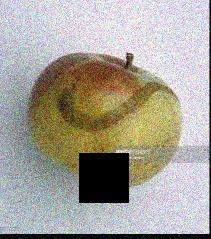rotten apple: (23, 46, 188, 188)
